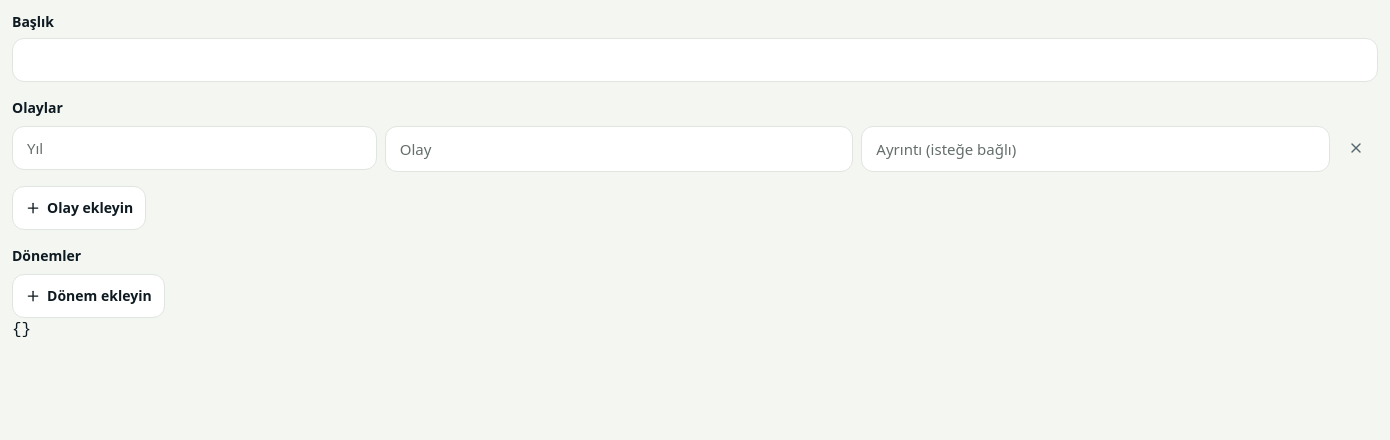
it: satır formları gerçek yazımla › hayat çizgisi: olaylar, ayrıntı ve dönem birlikte yazılır
Click the field named "Yıl 1" at (194, 148), box [12,126,377,170]
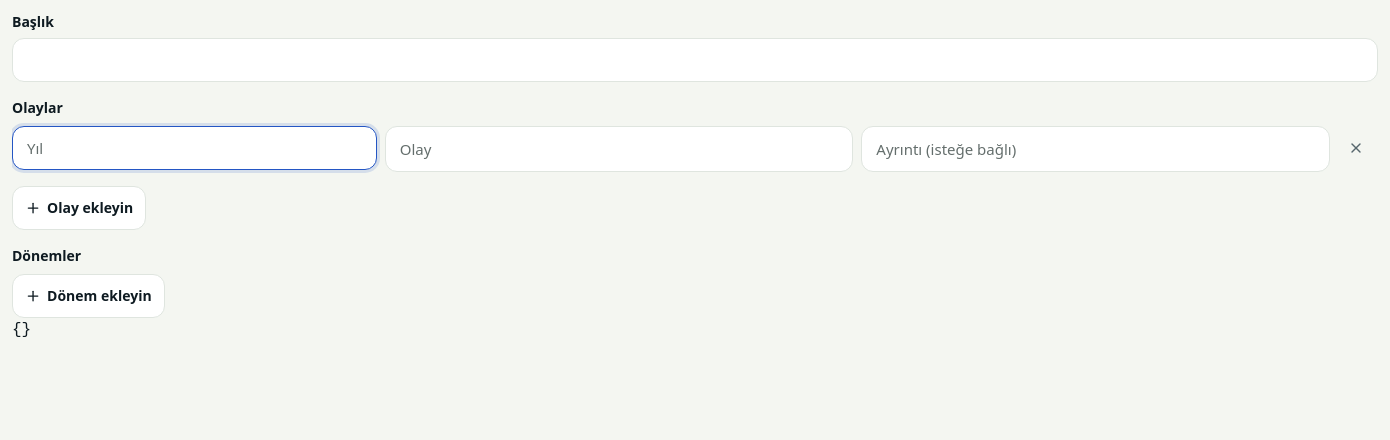
Type keys "1881{Enter}Selanik'te doğdu{Enter}Ali Rıza Efendi'nin oğlu"
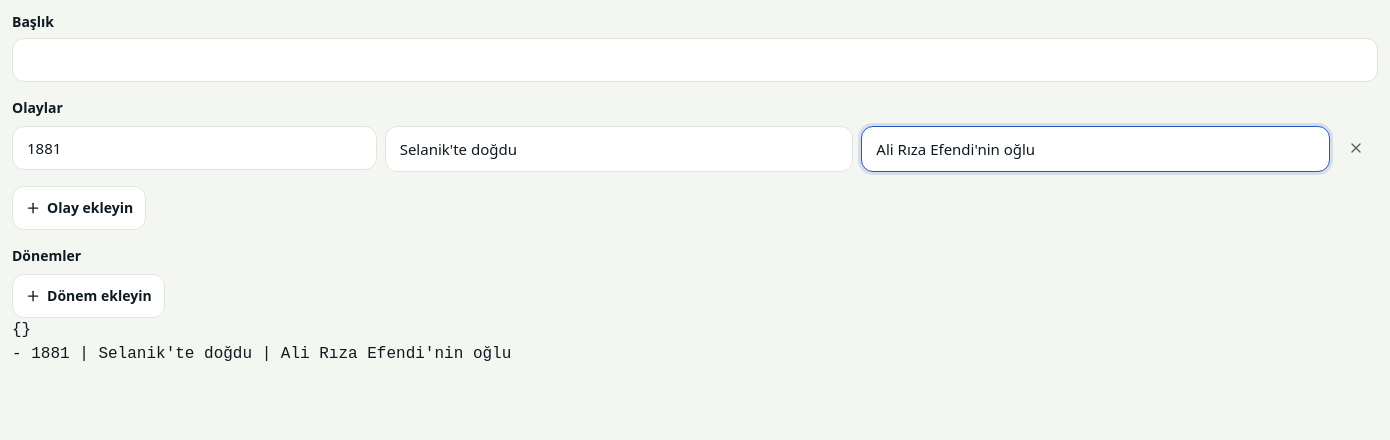
Click the button "Dönem ekleyin" at (88, 296), box [12,274,165,318]
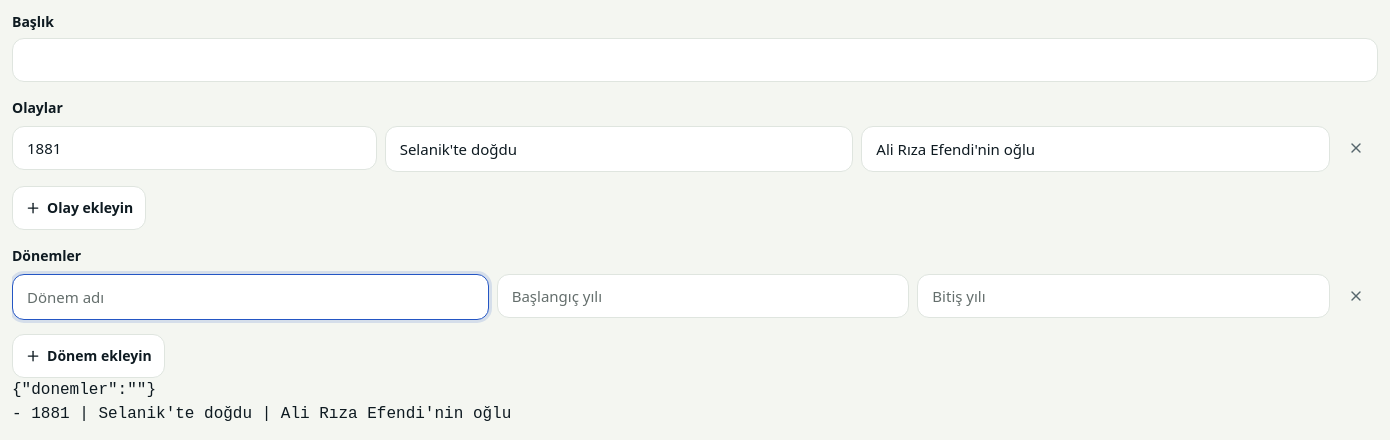
Type keys "Çocukluk{Enter}1881{Enter}1893"
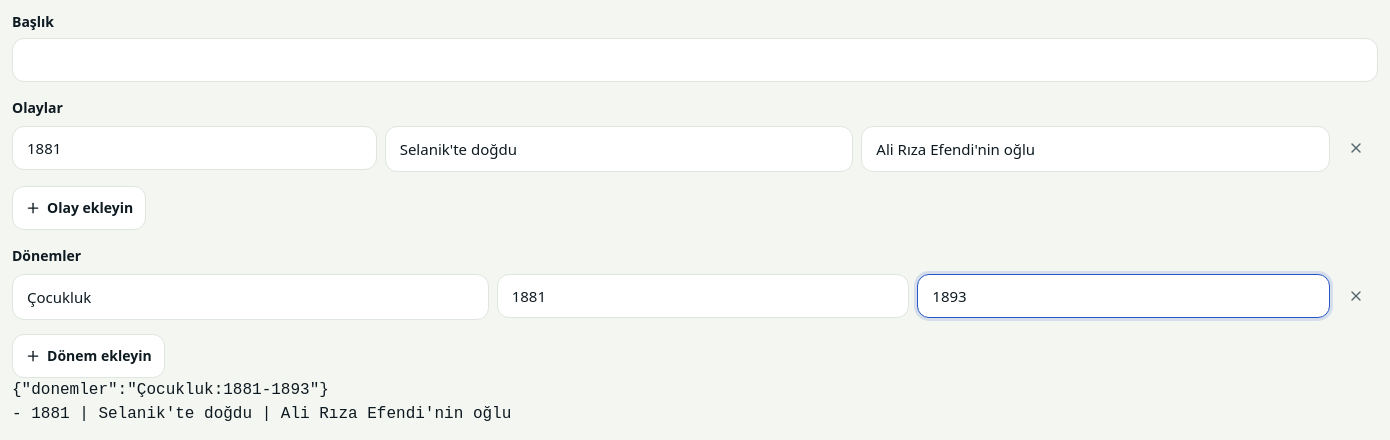
Expected: the text with test id "out" shows "- 1881 | Selanik'te doğdu | Ali Rıza Efendi'nin oğlu", [12,381,511,423]
Expected: the text with test id "out" shows "\"donemler\":\"Çocukluk:1881-1893\"", [12,381,511,423]
